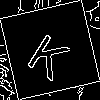K: (25, 25, 77, 82)
